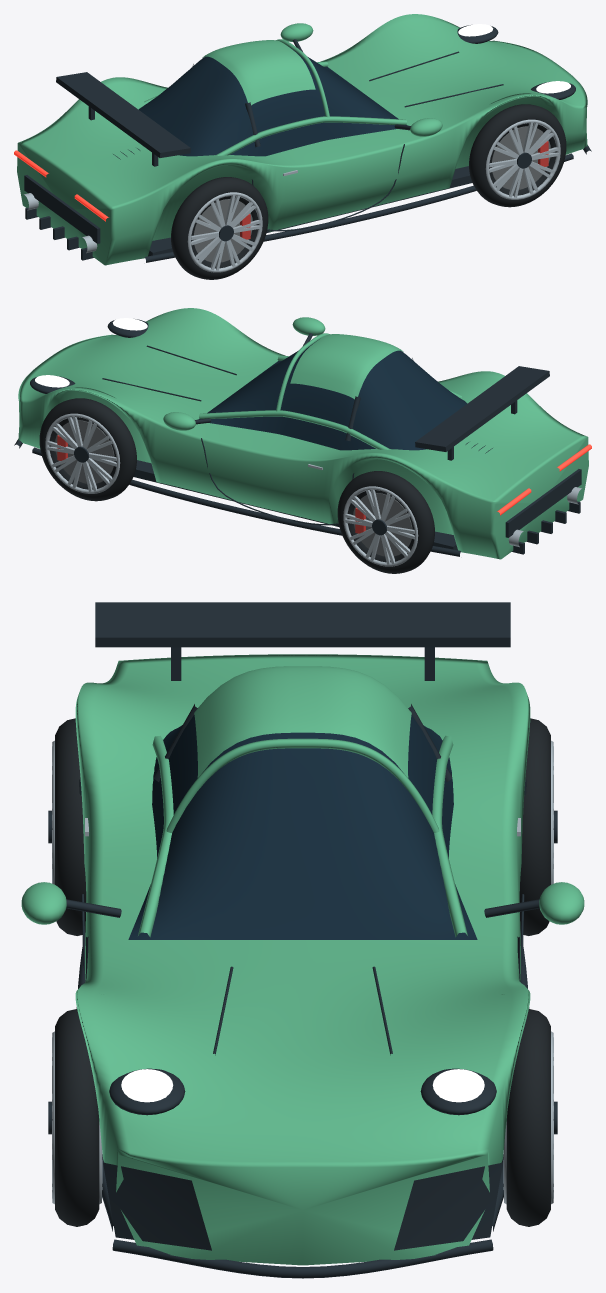
Rendered from car03.glb.
3 views of the same model, one above another, from view 1: azimuth 30°, elevation 25°; view 2: azimuth 150°, elevation 25°; view 3: azimuth 270°, elevation 25° (orthographic). The views are drawn at different scales.
Visible parts, largest first — view 1: continuous-sculpted-body, CAR03, curved-windows, roof-panel; view 2: continuous-sculpted-body, CAR03, curved-windows, roof-panel; view 3: continuous-sculpted-body, CAR03, curved-windows, roof-panel.
Part boxes in pixels (x1,y1,x2,y2): continuous-sculpted-body: [17, 14, 587, 265]; CAR03: [14, 23, 591, 279]; curved-windows: [138, 45, 407, 156]; roof-panel: [202, 40, 315, 105]; continuous-sculpted-body: [18, 308, 588, 559]; CAR03: [14, 317, 591, 573]; curved-windows: [198, 339, 467, 450]; roof-panel: [290, 334, 403, 399]; continuous-sculpted-body: [75, 654, 530, 1265]; CAR03: [21, 602, 584, 1278]; curved-windows: [128, 715, 477, 939]; roof-panel: [194, 666, 411, 777].
Bounding box in the file's own units: 4.66 × 1.42 × 2.22.
